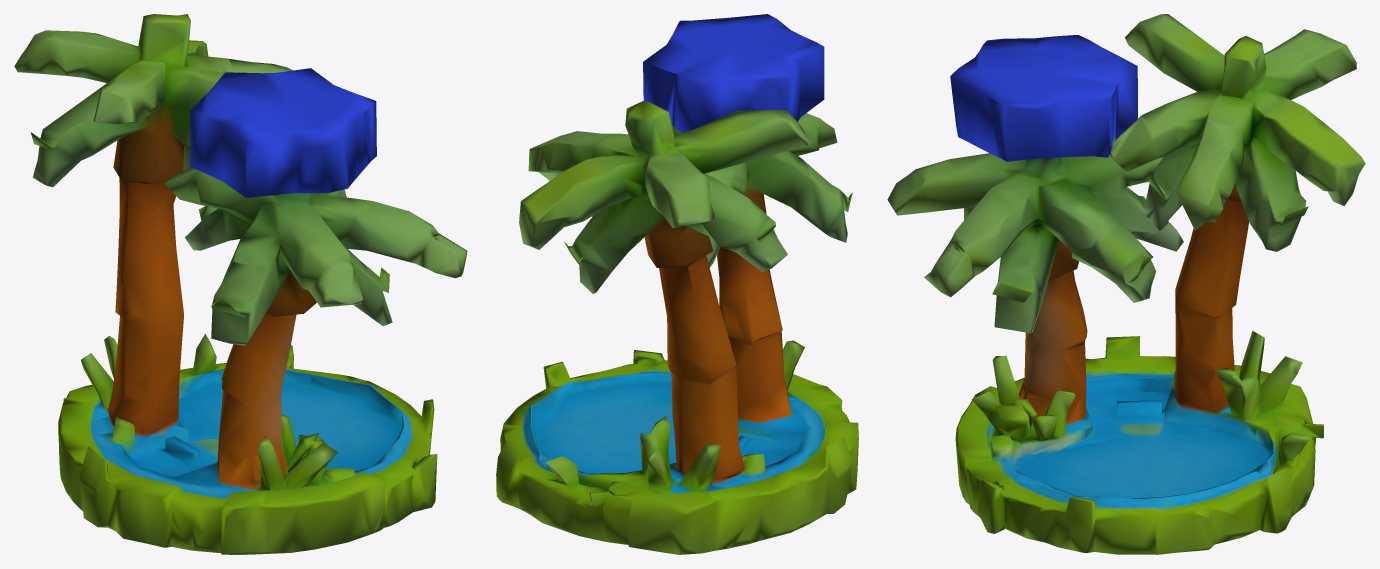
Rendered from oasis.glb.
3 renders of one model, left to right at view 1: azimuth 30°, elevation 25°; view 2: azimuth 150°, elevation 25°; view 3: azimuth 270°, elevation 25°, orthographic. The views are drawn at different scales.
Visible parts, largest first — view 1: tripo_node_29c14694-eafe-4b21-af1e-445ab1d5c9d1; view 2: tripo_node_29c14694-eafe-4b21-af1e-445ab1d5c9d1; view 3: tripo_node_29c14694-eafe-4b21-af1e-445ab1d5c9d1.
Boxes of the visible parts, x1,y1,x2,y2 form: tripo_node_29c14694-eafe-4b21-af1e-445ab1d5c9d1: (14,14,467,554); tripo_node_29c14694-eafe-4b21-af1e-445ab1d5c9d1: (496,14,858,554); tripo_node_29c14694-eafe-4b21-af1e-445ab1d5c9d1: (887,14,1365,554).
Bounding box in the file's own units: 0.7829 × 0.9761 × 1.
Materials: 1 (1 with a texture image).
